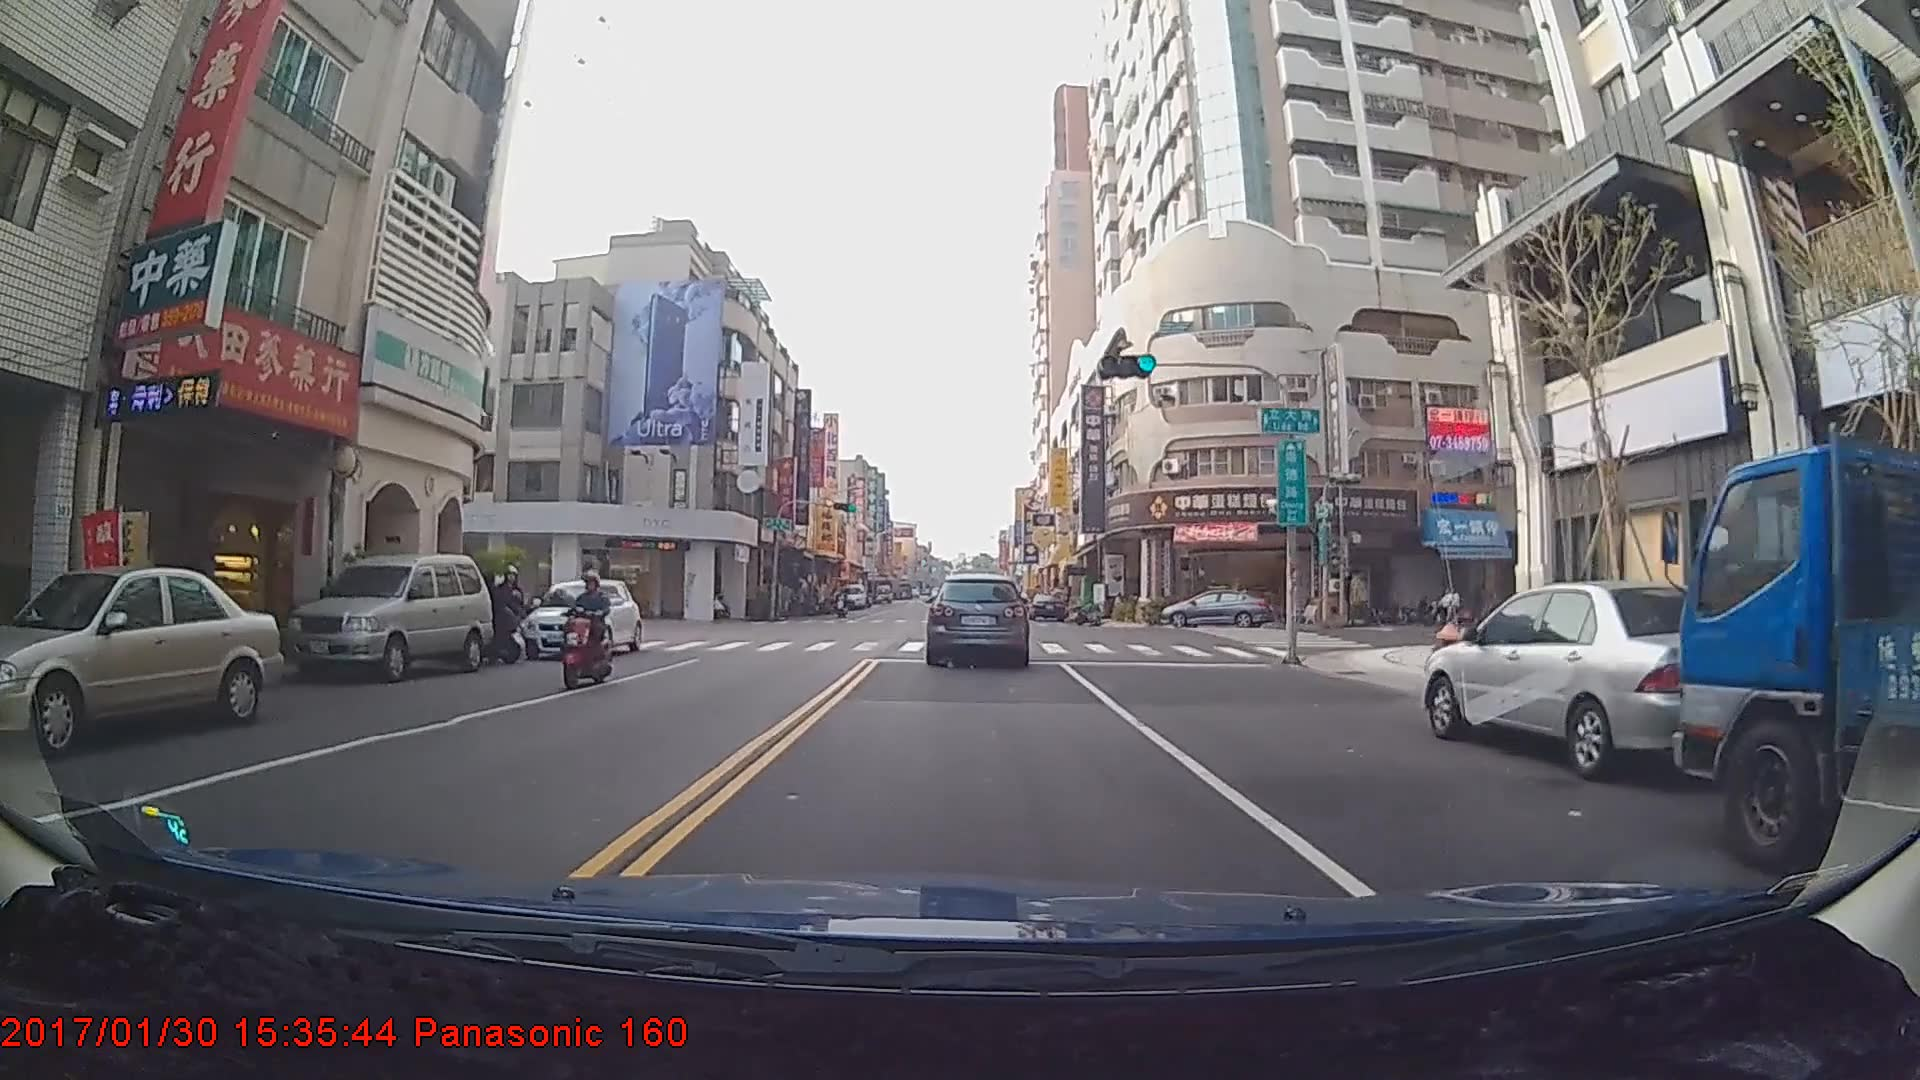rider: (559, 572, 614, 689), (1427, 582, 1475, 631), (828, 587, 852, 622)
vehicle: (1673, 446, 1920, 926), (1421, 578, 1779, 782), (0, 563, 280, 754), (282, 551, 493, 682), (924, 574, 1028, 666), (521, 578, 634, 660), (1158, 585, 1273, 631), (1026, 590, 1064, 620), (839, 581, 864, 609)
